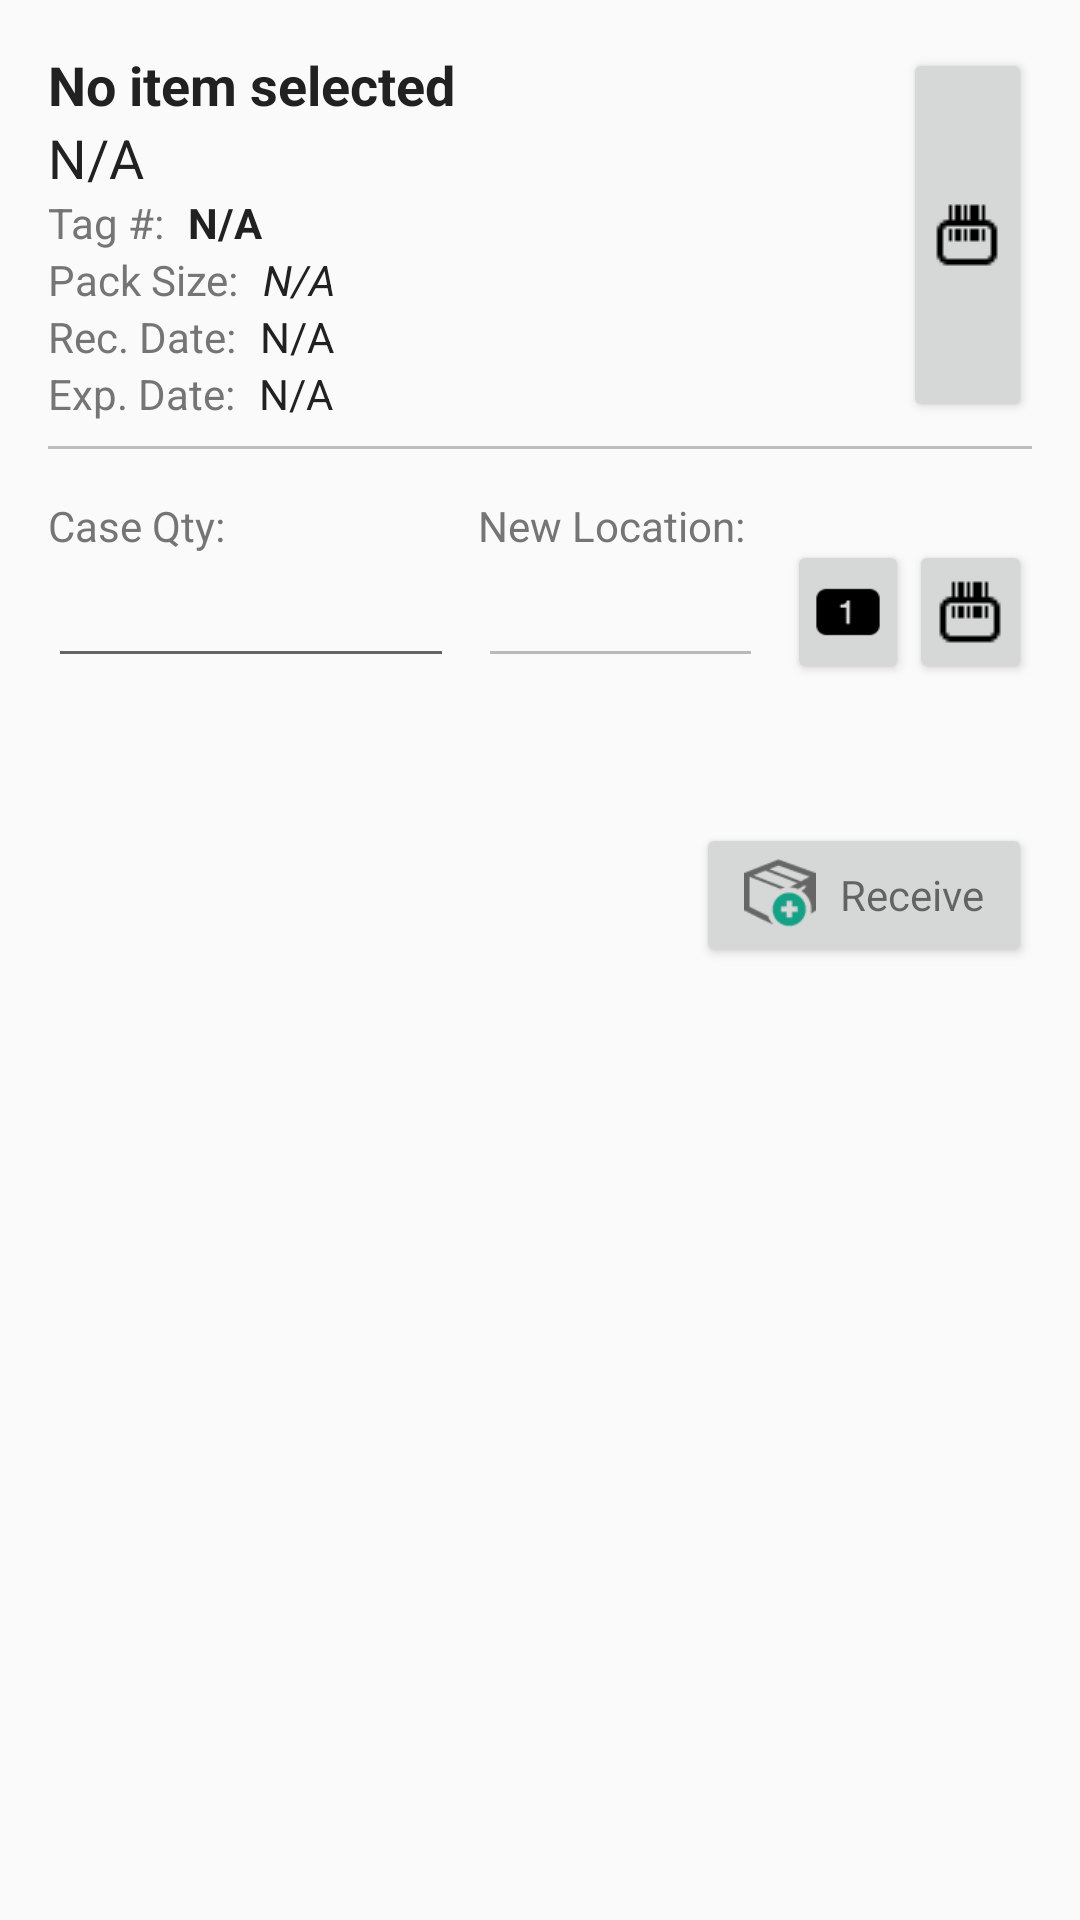

Icons on this 1080w x 1920h Android screen, each with the point to tap as (x=x, y=y):
barcode scanner: (x=967, y=235), (x=970, y=612)
